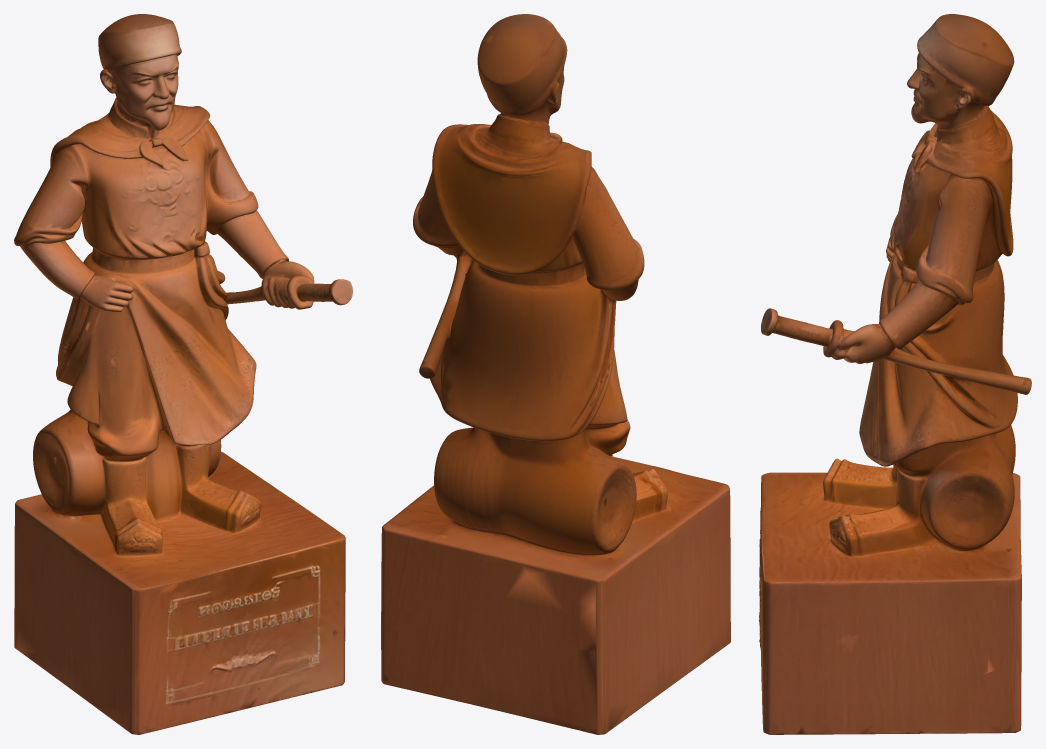
File: tuong3d6.glb
The picture shows the model from 3 angles, left to right: view 1: azimuth 30°, elevation 25°; view 2: azimuth 150°, elevation 25°; view 3: azimuth 270°, elevation 25°; orthographic projection. The views are drawn at different scales.
Visible parts, largest first — view 1: node_0; view 2: node_0; view 3: node_0.
Boxes of the visible parts, bbox=[...] form: node_0: bbox=[14, 14, 352, 734]; node_0: bbox=[381, 14, 730, 734]; node_0: bbox=[759, 14, 1031, 734].
Size of the model in its own units: 0.4246 by 1.07 by 0.4027.
Materials: 1 (1 with a texture image).
